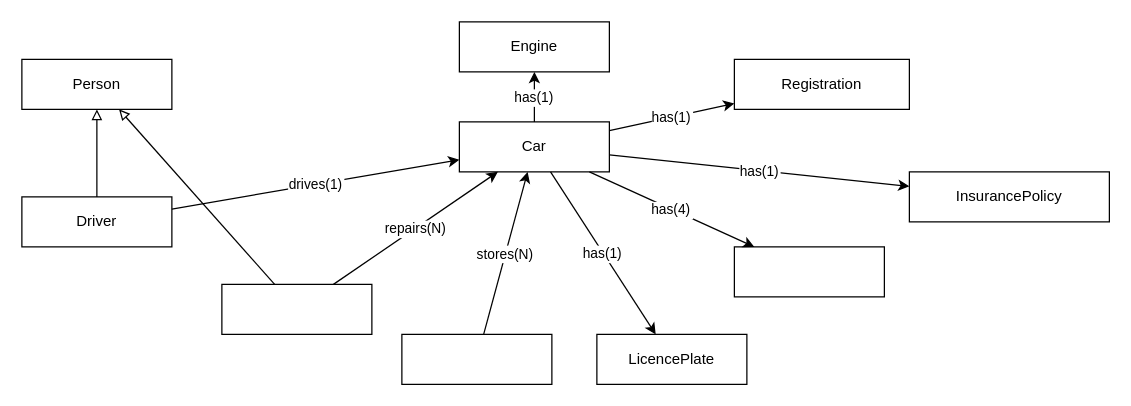
Image size: 1131x406. Some labels were removed from this diagram. Each missing label, with the centre of its shape:
Garage: pixel 476 358
Mechanic: pixel 296 308
Wheel: pixel 808 271
